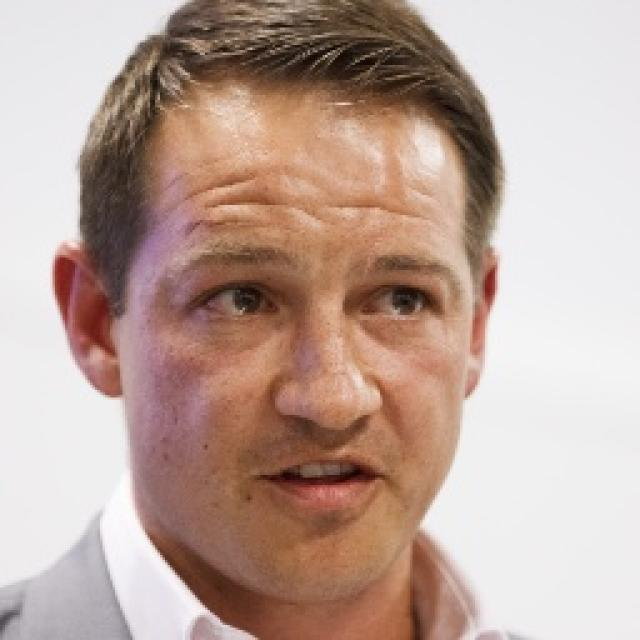earlobe: (92, 350, 125, 400), (463, 344, 487, 399)
eye: (195, 284, 276, 318), (364, 287, 434, 318)
nose: (270, 401, 395, 474)
wholeear: (51, 241, 126, 399), (463, 248, 499, 399)
